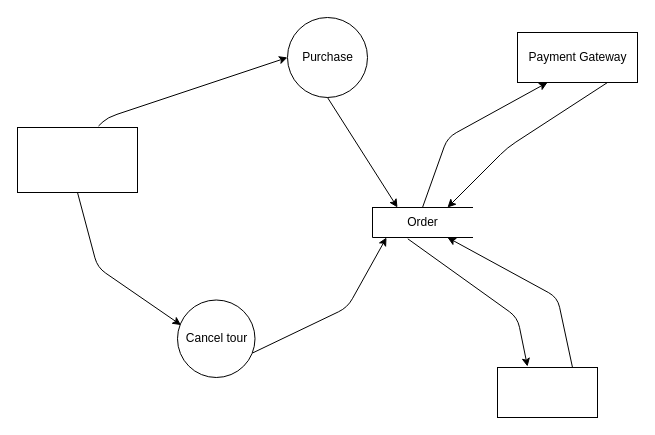
Some shapes in this 655 by 435 pixel diagram are drawn without their labels. Each missing label, with the box of its shape:
Tour Operator: (496, 366, 598, 418)
User: (16, 126, 138, 192)
